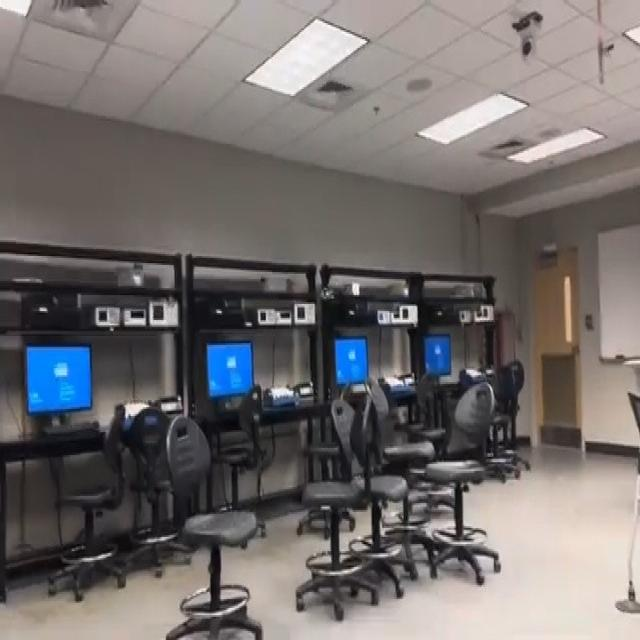drone: (314, 267, 340, 313)
